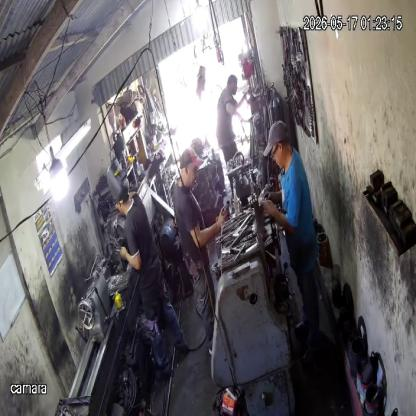lentes: (269, 143, 280, 159)
